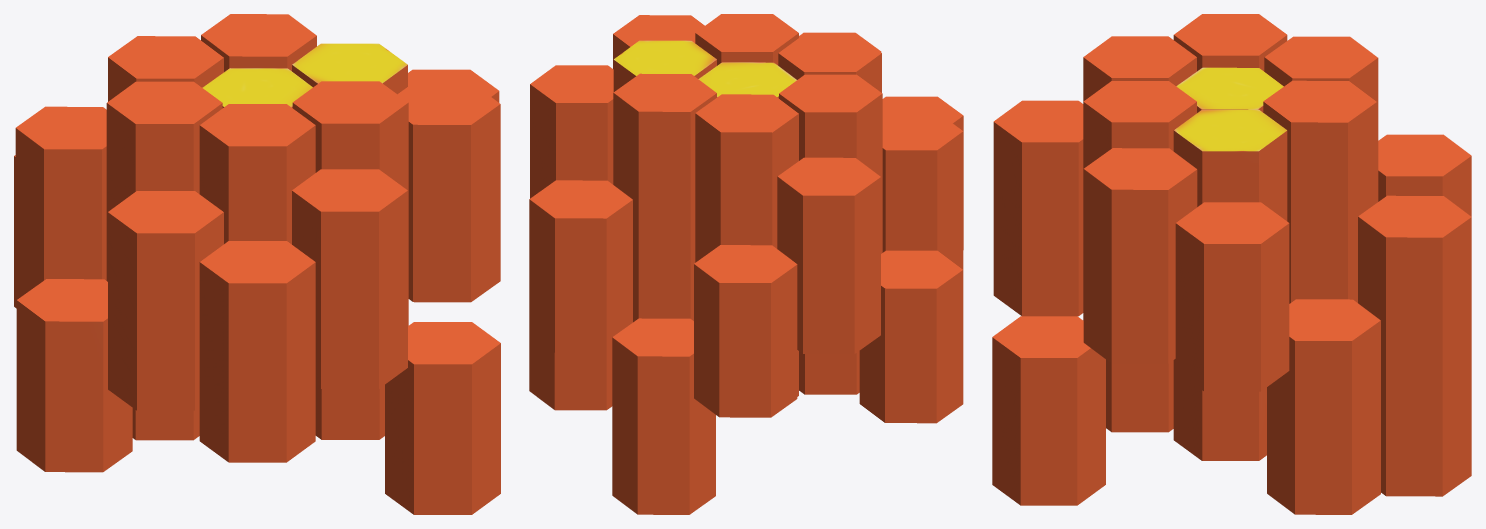
File: hexagonObject.fbx
The picture shows the model from 3 angles, left to right: view 1: azimuth 30°, elevation 25°; view 2: azimuth 150°, elevation 25°; view 3: azimuth 270°, elevation 25°; orthographic projection. The views are drawn at different scales.
Parts seen in each view (by area): view 1: Cylinder.004; view 2: Cylinder.004; view 3: Cylinder.004.
Part boxes in pixels (box(x1,y1,x2,y2)): Cylinder.004: box(14, 14, 500, 514); Cylinder.004: box(529, 14, 963, 514); Cylinder.004: box(992, 14, 1471, 514).
Size of the model in its own units: 583 by 495 by 543.
1 material, 1 textured.
